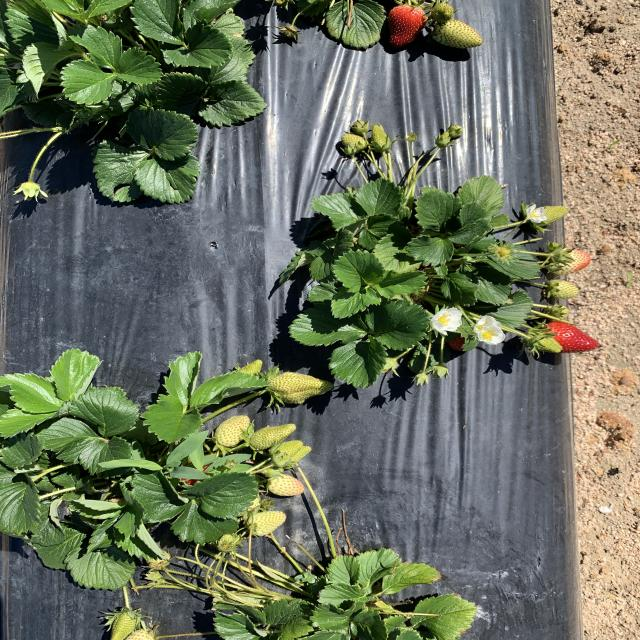unripe: (528, 318, 604, 357), (383, 4, 425, 47), (448, 329, 478, 353)
